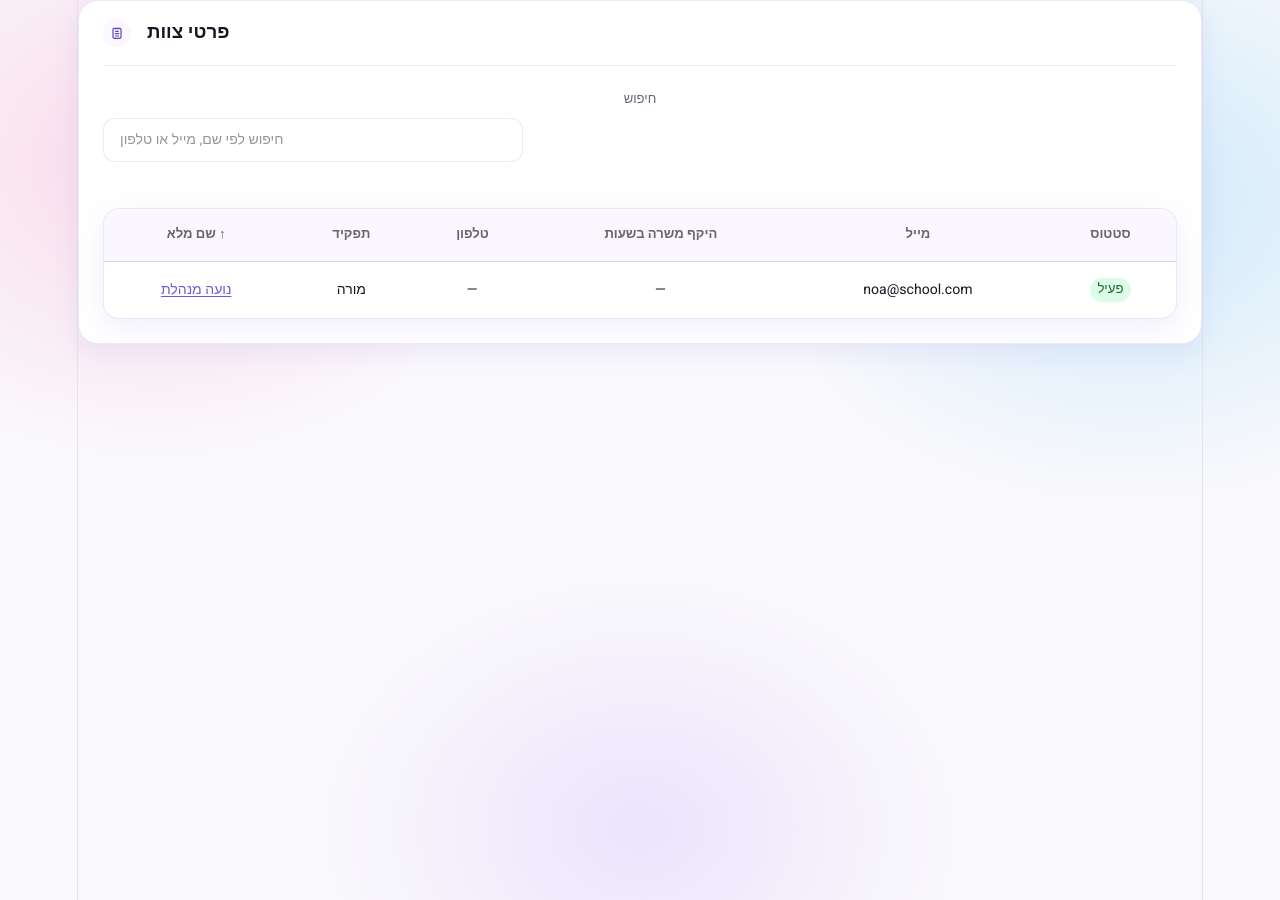
it: StaffDirectoryPage loading › does not show Deputy edit for Manager or Deputy directory rows
This screenshot has width=1280, height=900.
Step 1. Click the button "נועה מנהלת" → (196, 290), box [161,279,232,300]
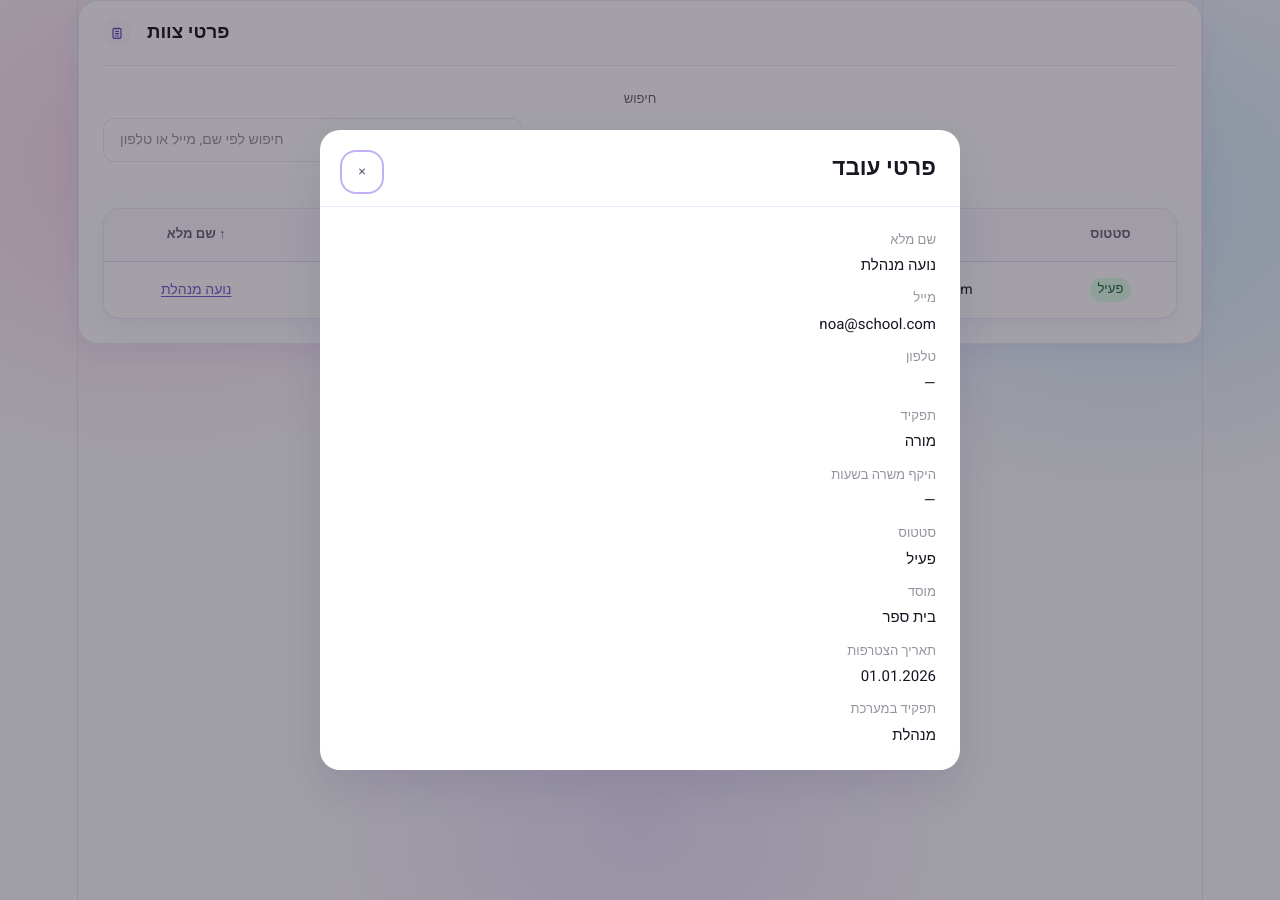
expect the text "מנהלת" is shown: met, box [892,724,936,746]
